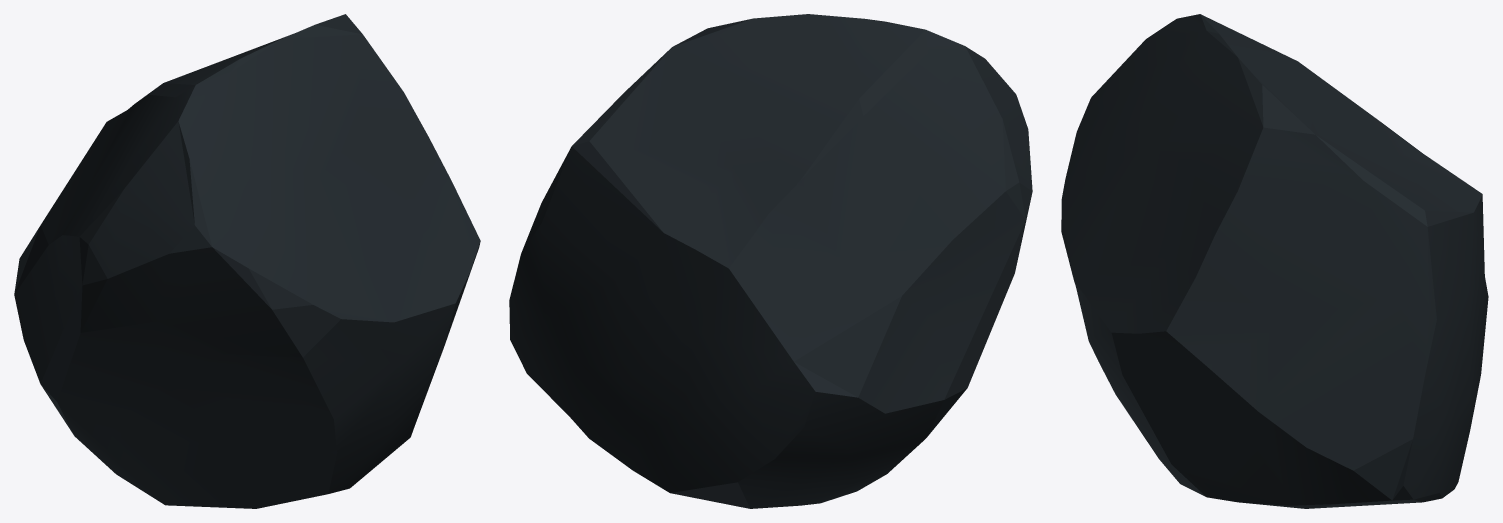
The model's file is Asteroid_s_28.FBX.
The picture shows the model from 3 angles, left to right: view 1: azimuth 30°, elevation 25°; view 2: azimuth 150°, elevation 25°; view 3: azimuth 270°, elevation 25°; orthographic projection. The views are drawn at different scales.
Parts seen in each view (by area): view 1: Asteroid_s_28; view 2: Asteroid_s_28; view 3: Asteroid_s_28.
Boxes of the visible parts, x1,y1,x2,y2 form: Asteroid_s_28: (14, 14, 480, 508); Asteroid_s_28: (509, 14, 1032, 508); Asteroid_s_28: (1061, 14, 1488, 508).
Size of the model in its own units: 150 by 149 by 131.
